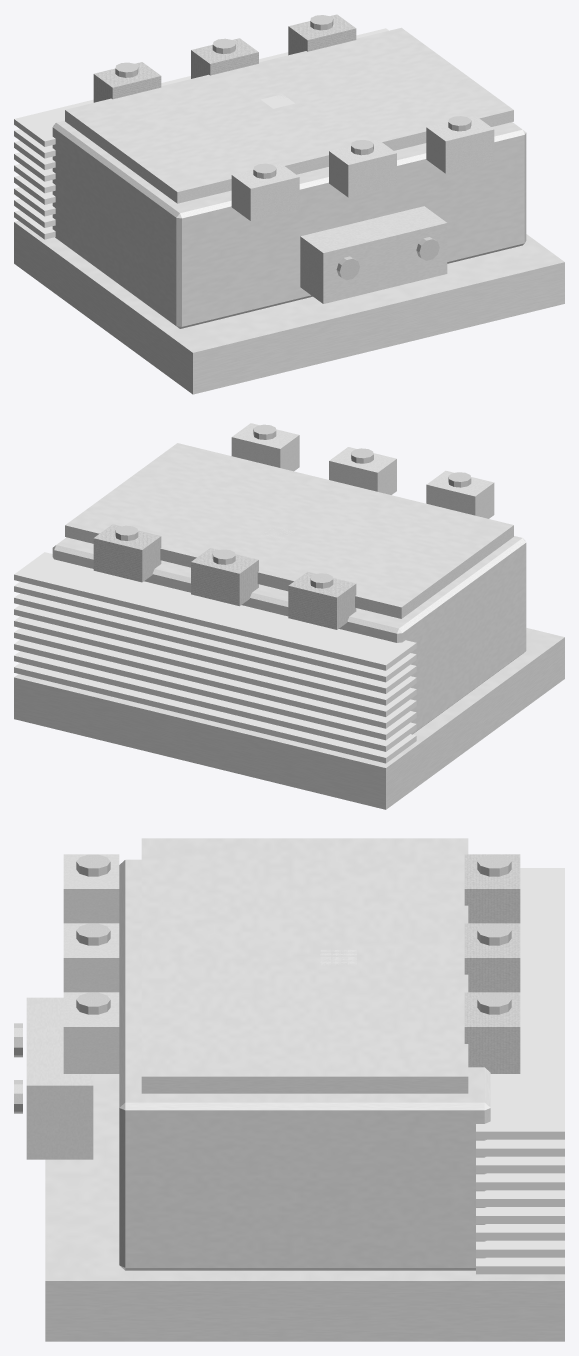
Rendered from switchgear_ssr_three.obj.
3 views of the same model, one above another, from view 1: azimuth 30°, elevation 25°; view 2: azimuth 150°, elevation 25°; view 3: azimuth 270°, elevation 25° (orthographic). The views are drawn at different scales.
Parts seen in each view (by area): view 1: Case, Base, Control, NO, Terminal, Heatsink; view 2: Case, Heatsink, Base, Terminal, NO; view 3: Case, Base, Heatsink, Terminal, NO, Control.
Boxes of the visible parts, x1,y1,x2,y2 form: Case: (52,27,526,328); Base: (14,220,564,394); Control: (300,206,447,303); NO: (231,115,494,221); Terminal: (93,14,471,280); Heatsink: (14,28,388,239); Case: (52,443,526,734); Heatsink: (14,552,416,763); Base: (14,628,564,809); Terminal: (93,424,471,629); NO: (231,423,494,518); Case: (119,838,490,1270); Base: (45,1074,564,1341); Heatsink: (476,868,564,1274); Terminal: (14,854,520,1113); NO: (63,854,119,1073); Control: (26,997,93,1159).
Size of the model in its own units: 0.84 by 0.415 by 0.742.
